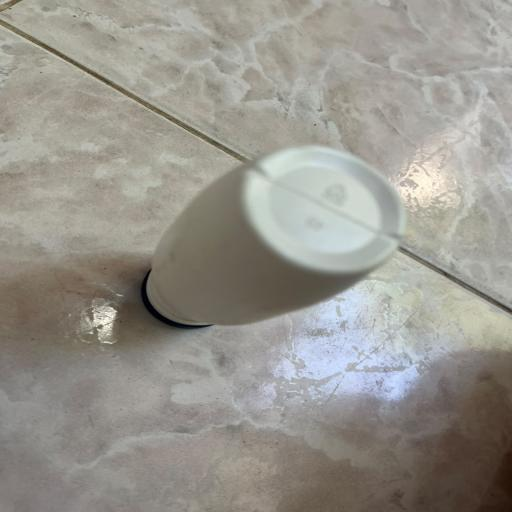HDPE: (117, 122, 437, 444)
